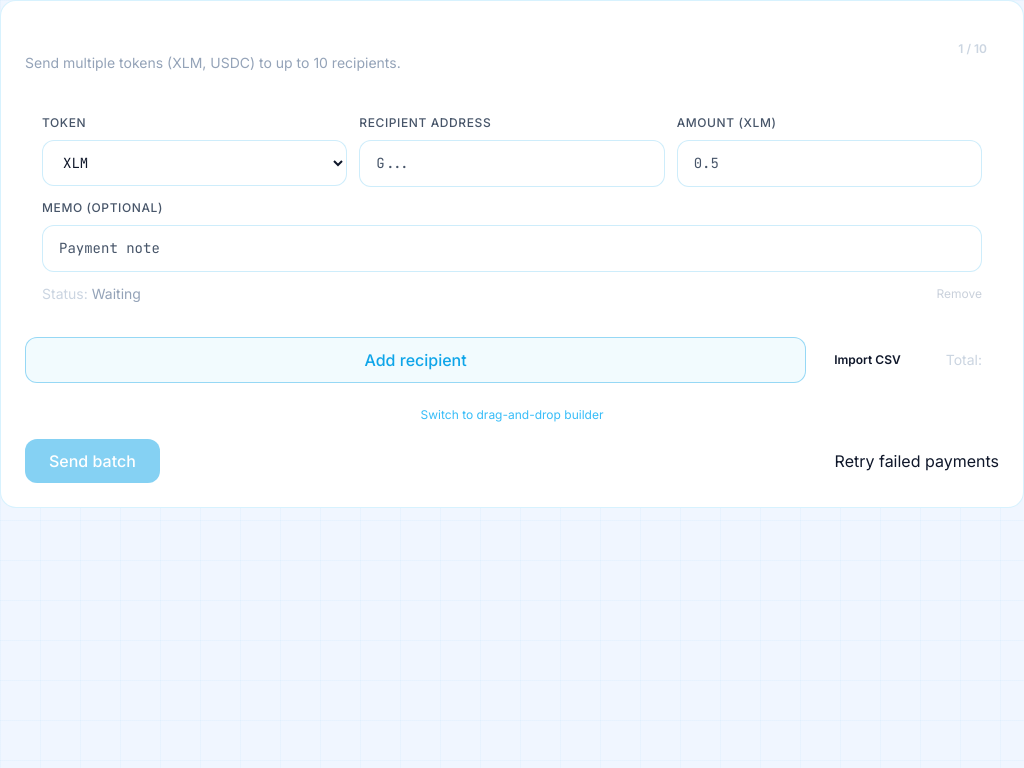
BatchPaymentForm › allows adding and removing recipient rows
Click the button "Add recipient" at (416, 360), box [25,337,806,383]
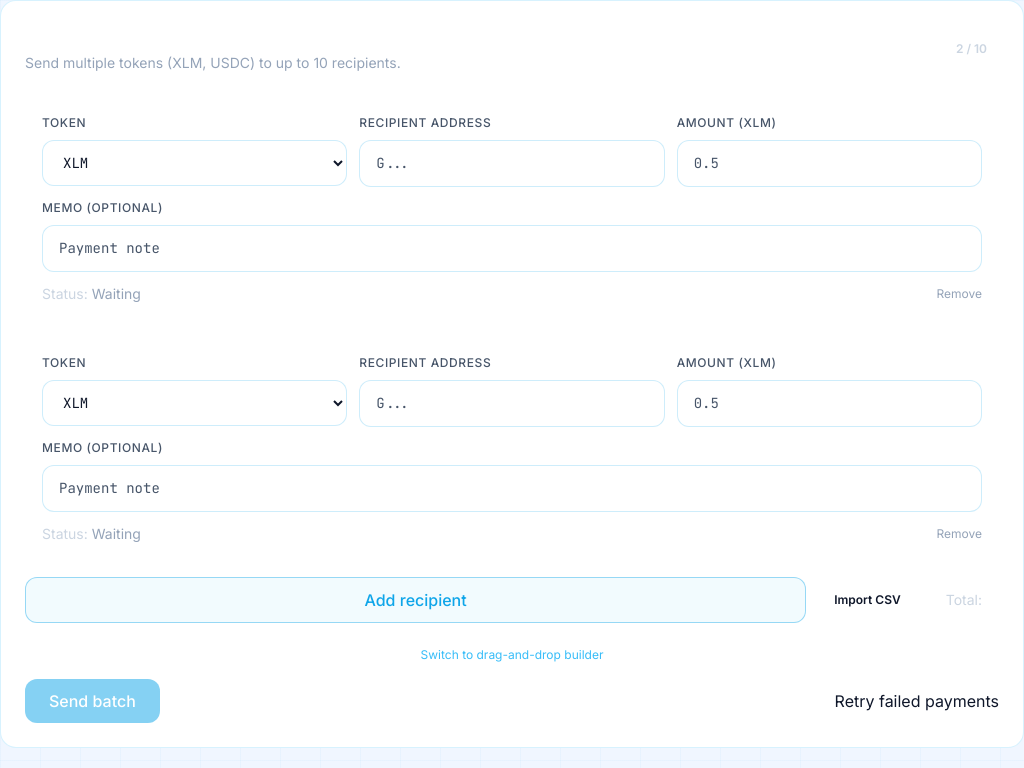
Now the number of fields with placeholder "G..." is 2, box [359,140,665,187]; [359,380,665,427]
Click the 1st button "Remove" at (959, 294), box [936,286,982,302]
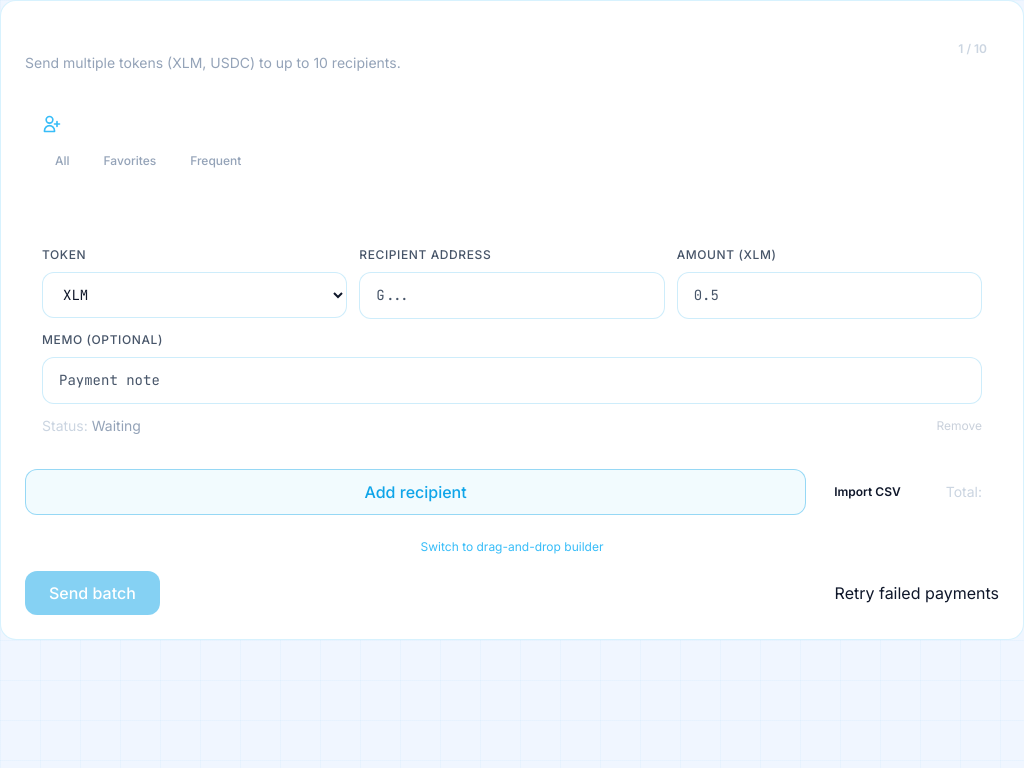
Now the number of fields with placeholder "G..." is 1, box [359,272,665,319]
